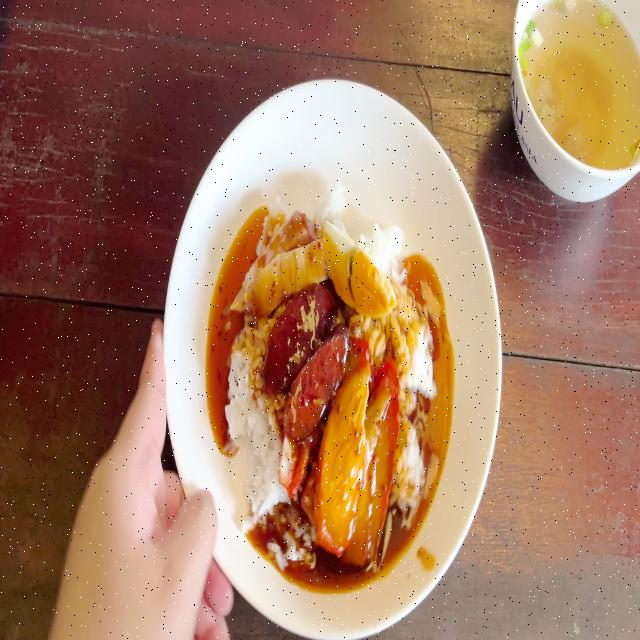boiled_egg: (322, 213, 398, 319)
chainese_sausage: (269, 283, 342, 415)
crispy_pork: (239, 211, 318, 307)
red_pork: (329, 350, 392, 557)
red_pork_and_crispy_pork: (229, 179, 434, 561)
rice: (226, 314, 266, 543)
